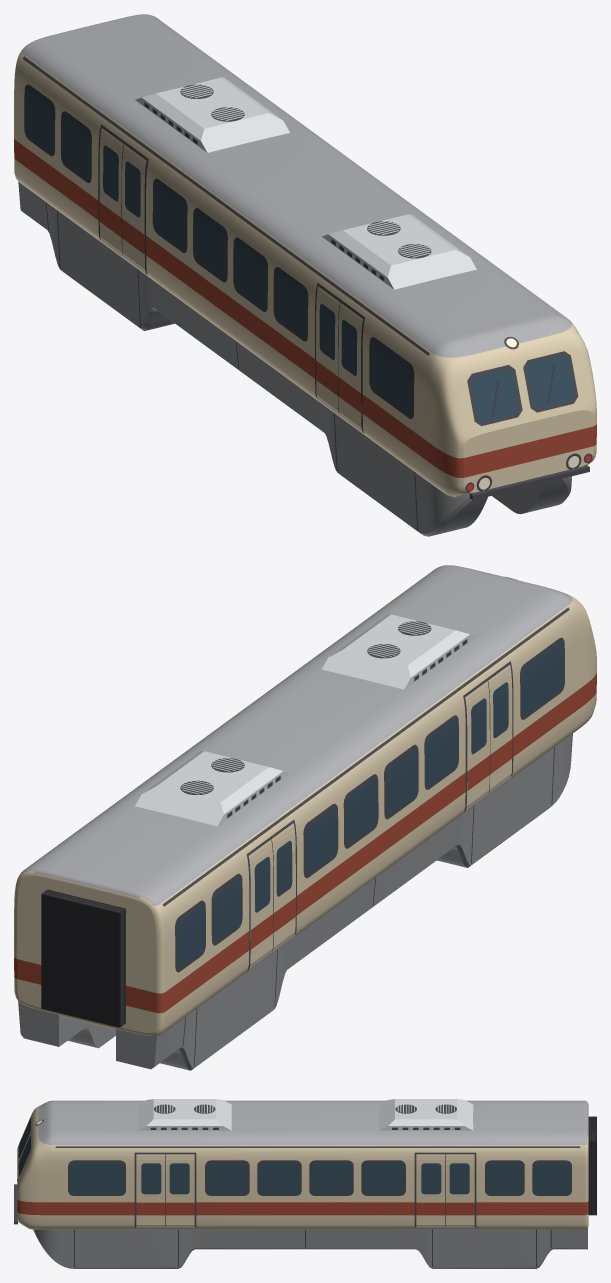
Rendered from 3_close.fbx.
The picture shows the model from 3 angles, top to bottom: view 1: azimuth 30°, elevation 25°; view 2: azimuth 150°, elevation 25°; view 3: azimuth 270°, elevation 25°; orthographic projection. The views are drawn at different scales.
Parts seen in each view (by area): view 1: 24_3_close; view 2: 24_3_close; view 3: 24_3_close.
Boxes of the visible parts, x1,y1,x2,y2 form: 24_3_close: (14,14,596,536); 24_3_close: (14,565,596,1070); 24_3_close: (14,1099,596,1268).
Size of the model in its own units: 2.72 by 3.71 by 14.
